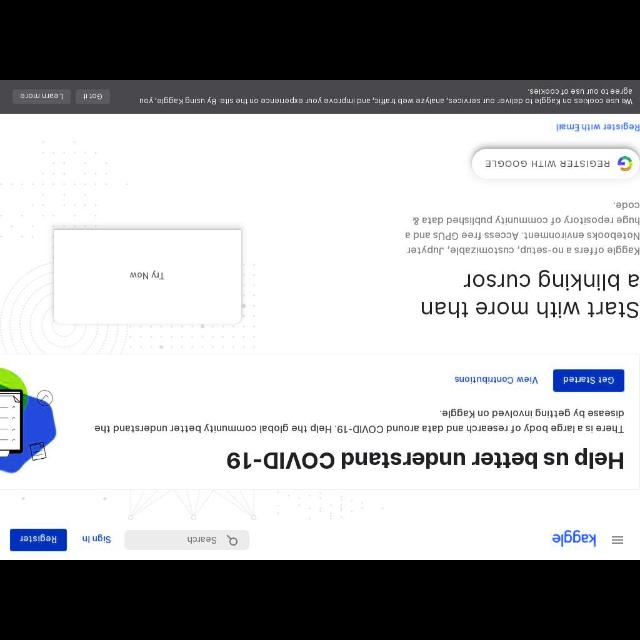backgroundimage: (1, 114, 640, 560)
icon: (227, 534, 237, 546), (611, 536, 623, 544)
image: (618, 157, 632, 171)
input: (125, 530, 248, 550)
text: (228, 449, 622, 469), (96, 423, 624, 433), (140, 96, 632, 104), (464, 270, 638, 290), (422, 302, 638, 318), (407, 245, 639, 255), (412, 215, 640, 225), (405, 232, 639, 240), (441, 408, 624, 418), (485, 160, 609, 167), (556, 122, 640, 132), (528, 88, 632, 96), (552, 530, 596, 548), (454, 376, 538, 384), (563, 376, 613, 384), (19, 534, 56, 544), (130, 270, 164, 280), (83, 534, 111, 544), (21, 94, 63, 100), (188, 536, 216, 544), (614, 202, 638, 210), (82, 93, 101, 99)
textbutton: (472, 148, 640, 178), (554, 370, 624, 392), (10, 529, 66, 551), (12, 89, 70, 103), (76, 89, 110, 103)
toolbar: (1, 488, 640, 560)
